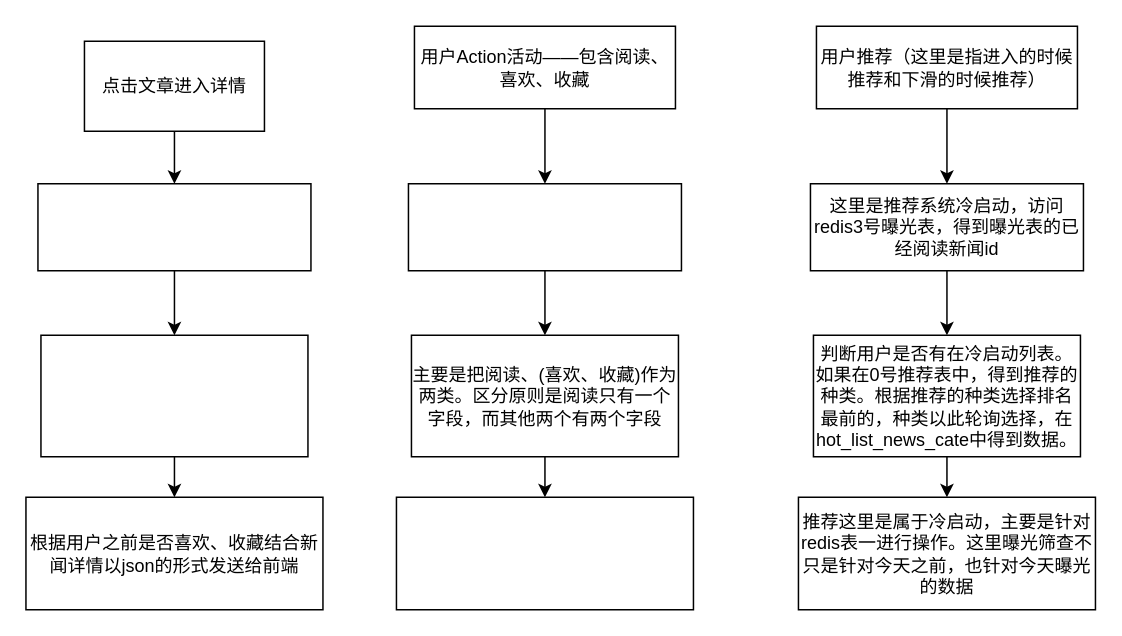
The diagram is 1122 pixels wide and 636 high, and some of its shapes have lost their labels. The shapes that lost their labels are listed below. From the top down, each one's centre as x and y in pixels, then its label:
At point (173, 226): "前端对每一个新闻区域进行监控，用户点击时，触发news_detail,传递给后端flask的url映射".
At point (544, 226): "这里Mysql中的表不是主角了，而是辅助。更多的是redis起作用".
At point (173, 395): "UserAction记录用户阅读的动作，存入到Mysql表中。整合redis的静态表和动态表得到新闻详情".
At point (544, 553): "存入mysql的loginfo日志中，之后读取redis的动态表2号表。这里有个细节操作，就是读取处理，转成json格式，然后操作，再转换为str格式".
